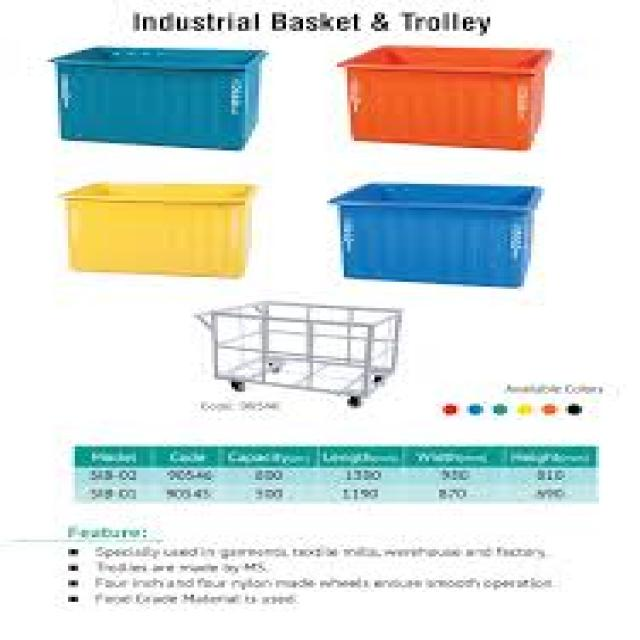basket: (338, 44, 550, 150), (50, 47, 260, 149)
